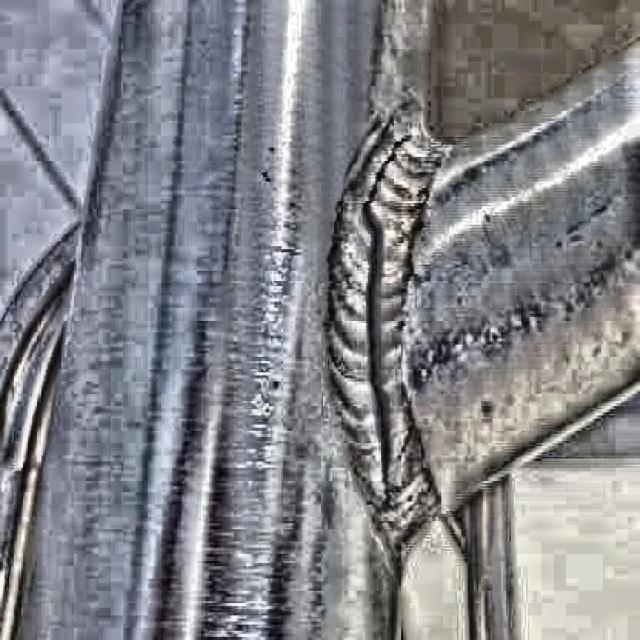crack: (367, 321, 392, 481), (367, 190, 384, 312), (377, 141, 403, 187)
